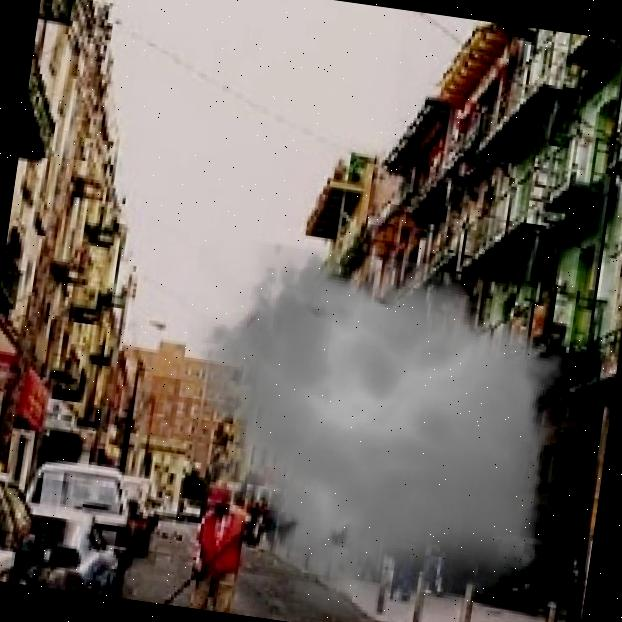smoke: (150, 215, 597, 622)
